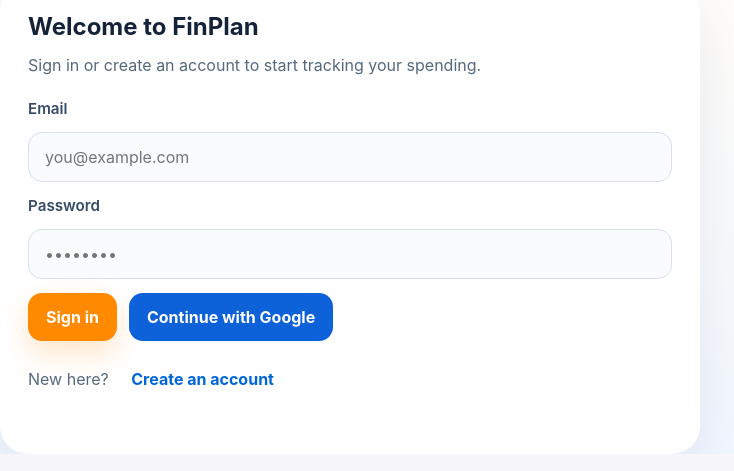
Test: AuthPage › toggles to signup mode and back
Click the button "Create an account". click: (203,379)
box: [113,353,292,406]
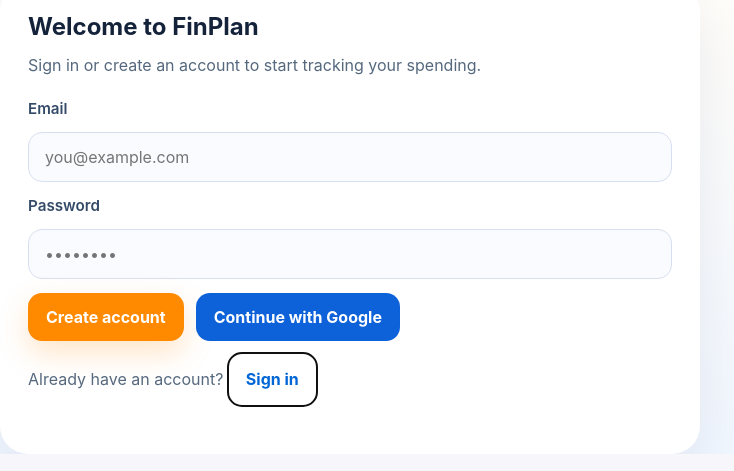
Result: the text "Already have an account? Sign in" is shown at [28,353,317,406]
Click the button "Sign in". click: (272,379)
box: [228,353,317,406]
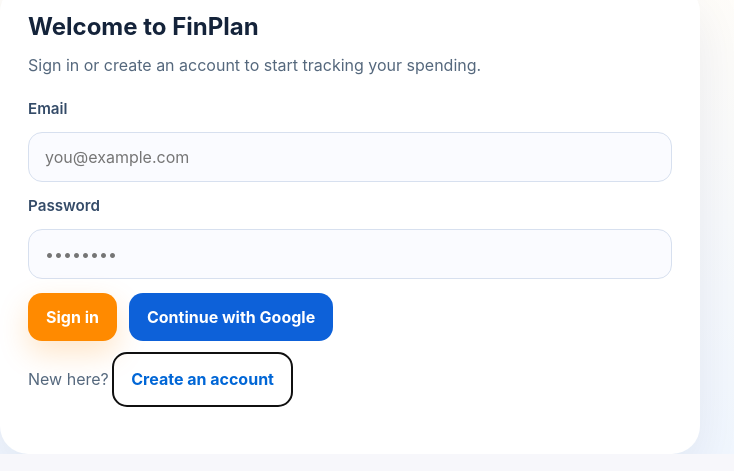
Result: the text "New here? Create an account" is shown at [28,353,292,406]
